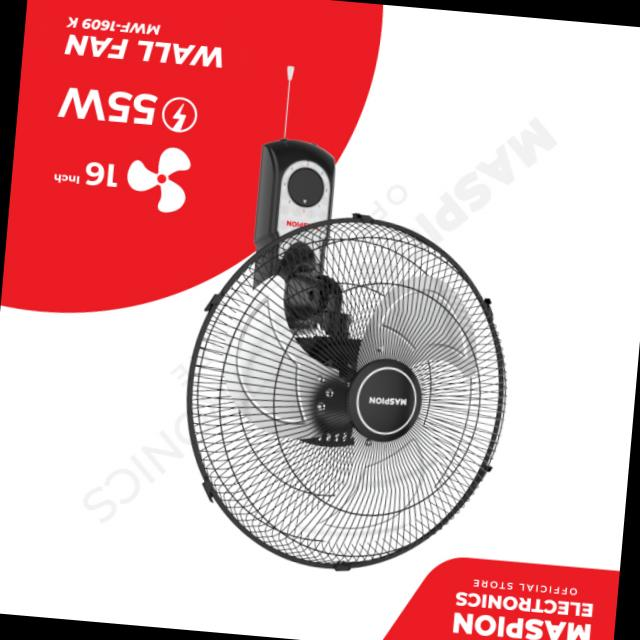fan: (162, 132, 530, 590)
